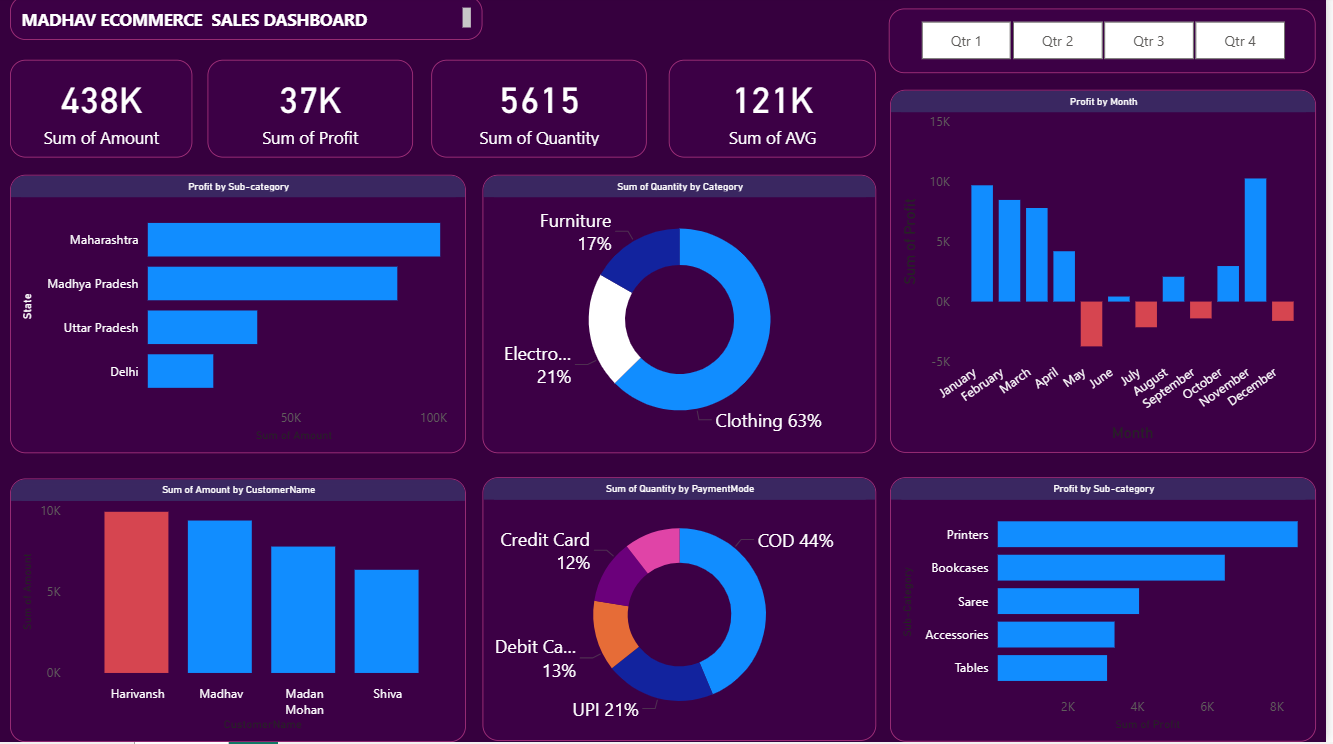

This screenshot's page, from the dashboard's own definition file:
{"tool":"powerbi","page":{"name":"Page 1","canvas":[1280,720],"ordinal":0},"visuals":[{"type":"textbox","box":[10,0,456.2,42.5],"z":0},{"type":"columnChart","title":"Profit by Month","fields":{"Y":["sells.Profit"],"Category":["Orders (2).Order Date.Variation.Date Hierarchy.Month"]},"box":[858.8,90,411.2,350],"z":1000},{"type":"barChart","title":"Profit by Sub-category","fields":{"Category":["sells.Sub-Category"],"Y":["sells.Profit"]},"box":[858.8,465,411.2,255],"z":2000},{"type":"donutChart","fields":{"Category":["sells.Category"],"Y":["sells.Quantity"]},"box":[465.7,172.9,380,268.6],"z":3000},{"type":"donutChart","fields":{"Y":["sells.Quantity"],"Category":["sells.PaymentMode"]},"box":[465.7,464.3,380,254.3],"z":4000},{"type":"card","fields":{"Values":["sells.Amount"]},"box":[10,62,176,94],"z":5000},{"type":"card","fields":{"Values":["sells.Quantity"]},"box":[416,62,208,94],"z":6000},{"type":"card","fields":{"Values":["sells.Profit"]},"box":[200,62,198,94],"z":7000},{"type":"card","fields":{"Values":["sells.AVG"]},"box":[646,62,200,94],"z":8000},{"type":"barChart","title":"Profit by Sub-category","fields":{"Category":["Orders (2).State","sells.Sub-Category"],"Y":["sells.Amount"]},"box":[10,172.9,440,268.6],"z":9000},{"type":"columnChart","fields":{"Category":["Orders (2).CustomerName"],"Y":["sells.Amount"]},"box":[10,465.7,440,254.3],"z":10000},{"type":"slicer","fields":{"Values":["Orders (2).Order Date.Variation.Date Hierarchy.Quarter"]},"box":[858,12,412,62],"z":11000}]}

Visuals, with their boxes in screenshot pixels (x1, y1, x2, y2), scaled from the page's 1280x720 canvas onto the 1333x744 screenshot:
textbox: (10,0,486,44)
"Profit by Month" columnChart: (894,93,1323,455)
"Profit by Sub-category" barChart: (894,481,1323,743)
donutChart - sells.Category x sells.Quantity: (485,179,881,456)
donutChart - sells.Quantity x sells.PaymentMode: (485,480,881,743)
card - sells.Amount: (10,64,194,161)
card - sells.Quantity: (433,64,650,161)
card - sells.Profit: (208,64,414,161)
card - sells.AVG: (673,64,881,161)
"Profit by Sub-category" barChart: (10,179,469,456)
columnChart - Orders (2).CustomerName x sells.Amount: (10,481,469,743)
slicer - Orders (2).Order Date.Variation.Date Hierarchy.Quarter: (894,12,1323,76)
